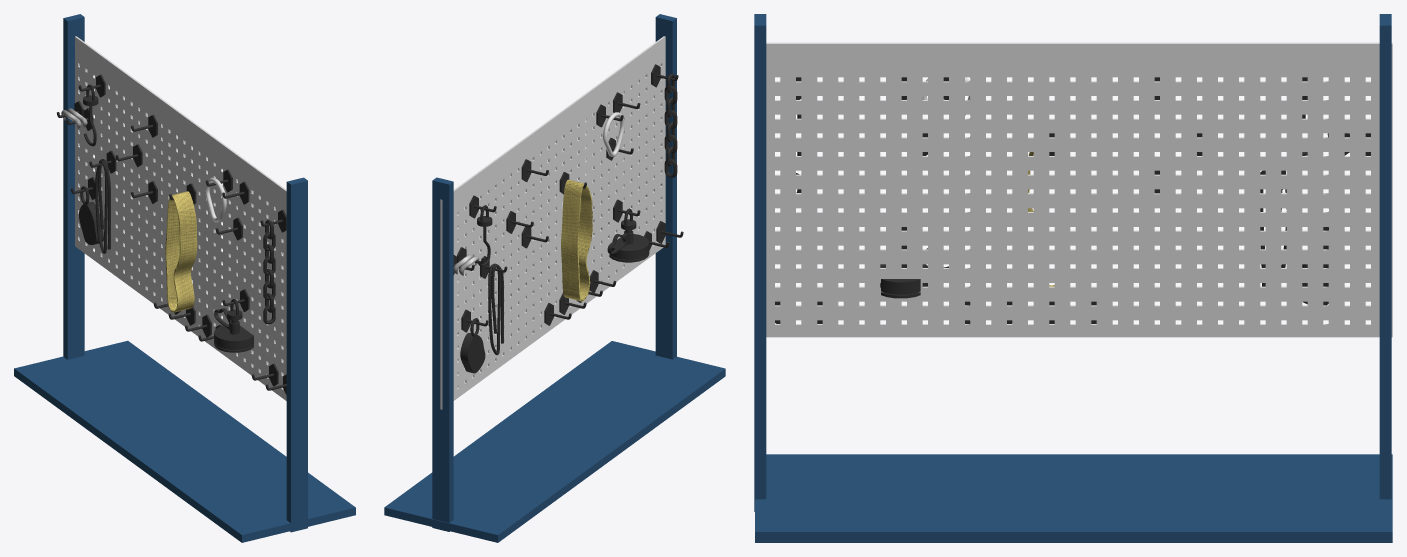
Rendered from gongjujia.FBX.
The picture shows the model from 3 angles, left to right: view 1: azimuth 30°, elevation 25°; view 2: azimuth 150°, elevation 25°; view 3: azimuth 270°, elevation 25°; orthographic projection. The views are drawn at different scales.
Parts seen in each view (by area): view 1: Box004, Box003, Box002, Box001, pidai, Line023, Rectangle001, Cylinder005, Line022, Circle001; view 2: Box004, Box003, Box001, Box002, pidai, Rectangle001, Line023, Line022, Cylinder005, Circle001; view 3: Box004, Box003, Box002, Box001.
Part boxes in pixels (x1,y1,x2,y2): Box004: (75, 36, 286, 400); Box003: (14, 340, 355, 542); Box002: (286, 177, 307, 532); Box001: (63, 14, 84, 359); pidai: (165, 191, 197, 312); Line023: (95, 159, 110, 253); Rectangle001: (263, 220, 275, 324); Cylinder005: (214, 324, 253, 349); Line022: (79, 202, 103, 244); Circle001: (205, 177, 226, 222); Box004: (440, 36, 665, 409); Box003: (384, 341, 725, 542); Box001: (432, 177, 453, 531); Box002: (655, 14, 676, 359); pidai: (561, 179, 592, 301); Rectangle001: (664, 73, 677, 177); Line023: (488, 263, 503, 355); Line022: (460, 333, 485, 373); Cylinder005: (609, 234, 649, 259); Circle001: (603, 112, 624, 156); Box004: (766, 42, 1392, 337); Box003: (755, 454, 1392, 542); Box002: (754, 14, 766, 511); Box001: (1379, 14, 1391, 499).
Bounding box in the file's own units: 514 × 1500 × 1783.
